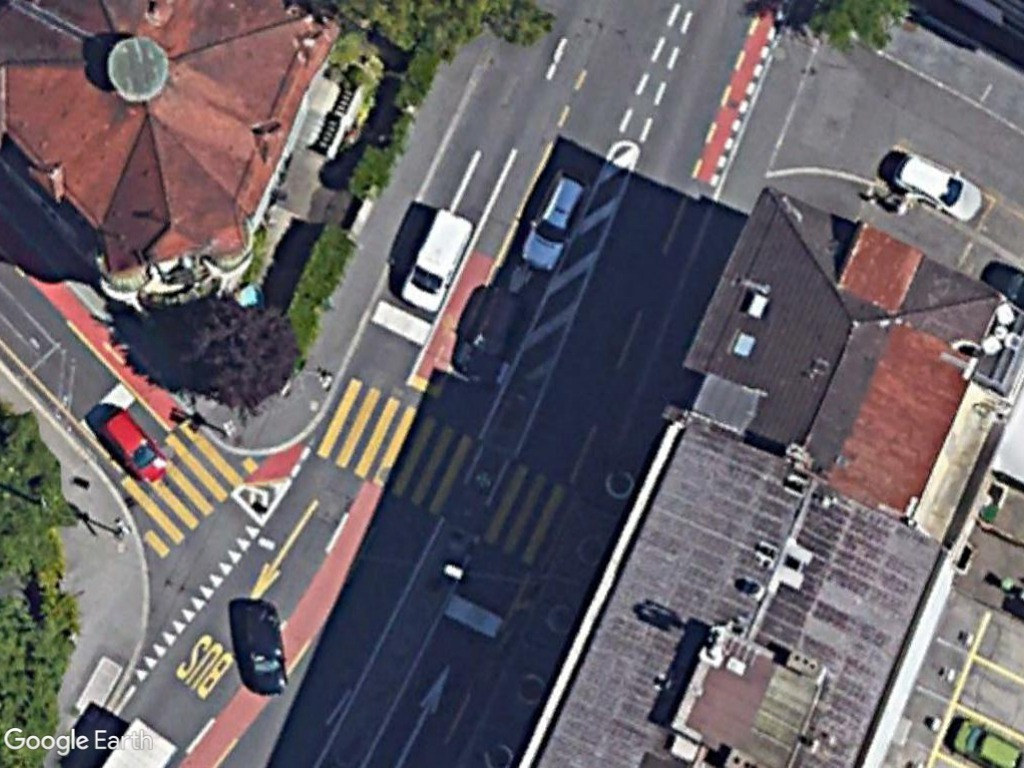car: (516, 168, 587, 272), (894, 150, 987, 224), (94, 409, 170, 486)
van: (397, 208, 476, 314)
